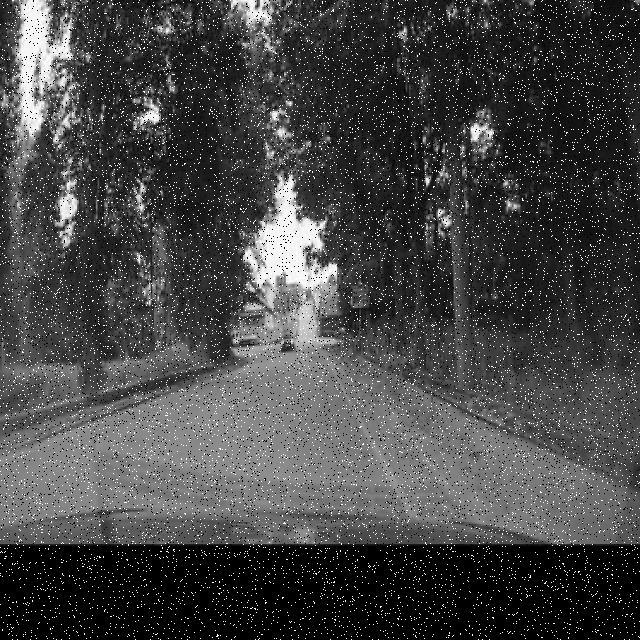clear-road: (98, 346, 361, 472)
